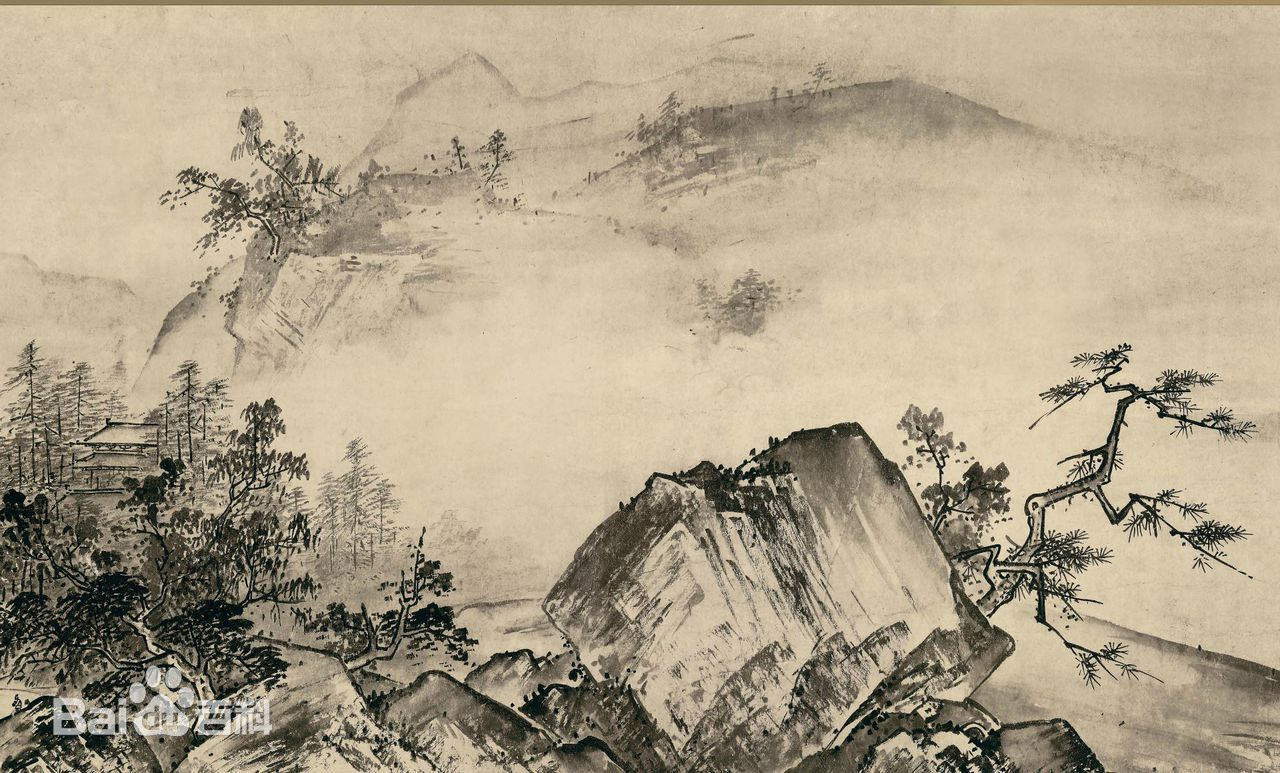hill: (560, 399, 996, 753)
house: (70, 409, 180, 531)
tree: (908, 337, 1272, 685), (11, 511, 316, 711), (140, 105, 327, 252), (311, 539, 468, 685), (5, 345, 81, 508), (315, 438, 395, 568), (447, 122, 522, 199), (178, 371, 200, 501)
